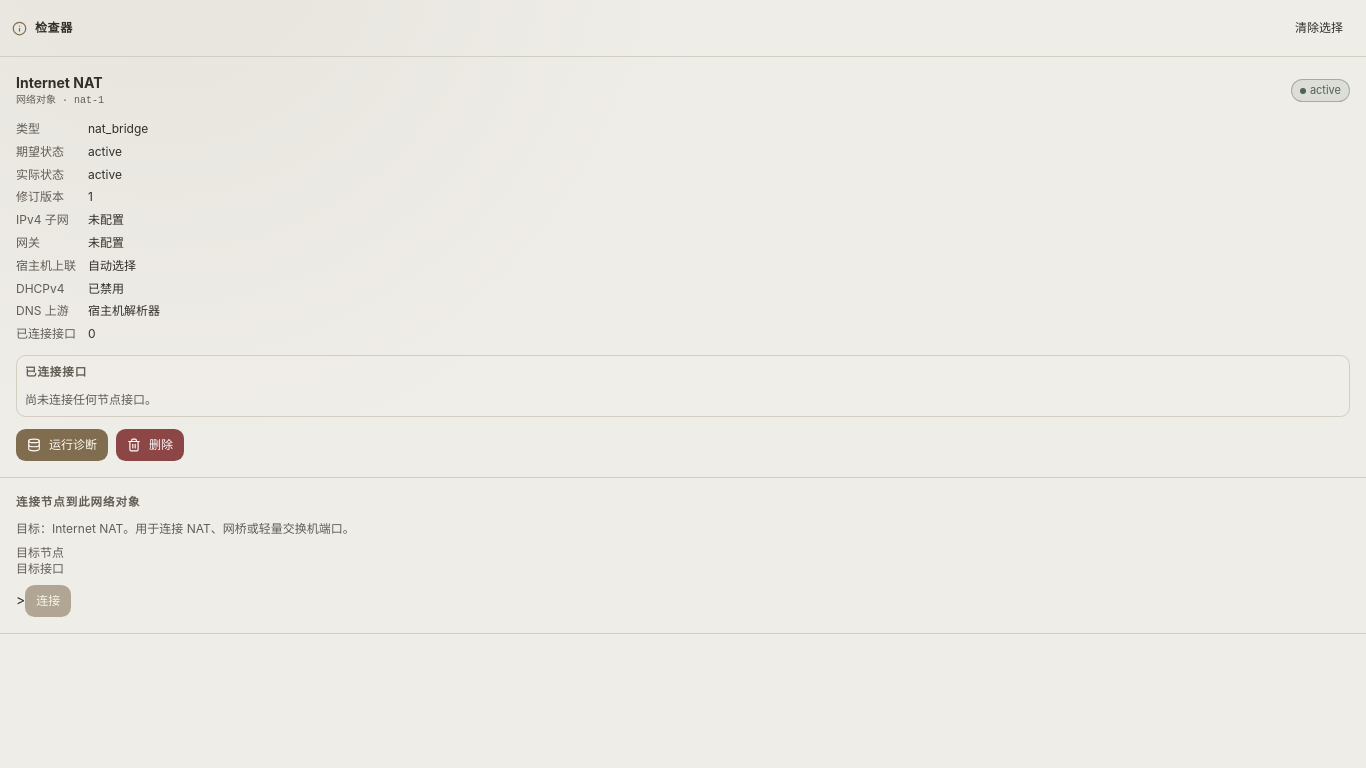
Test case: TopologyInspector › loads and collapses network diagnostics inside the Inspector
Click the button "运行诊断": (62, 445) [16,429,108,461]
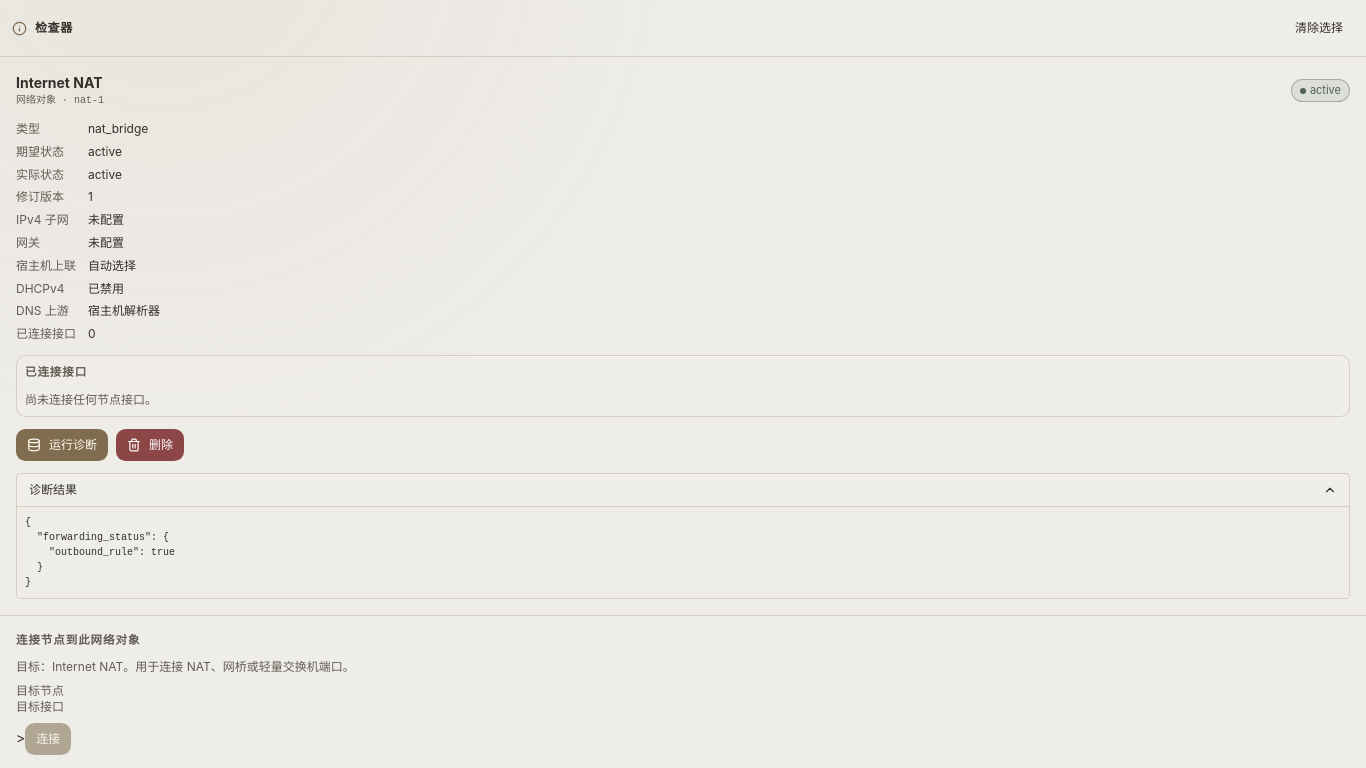
Expected: the text "outbound_rule" is shown, [25,517,175,588]
Click the button "诊断结果": (53, 489) [17,474,1349,506]
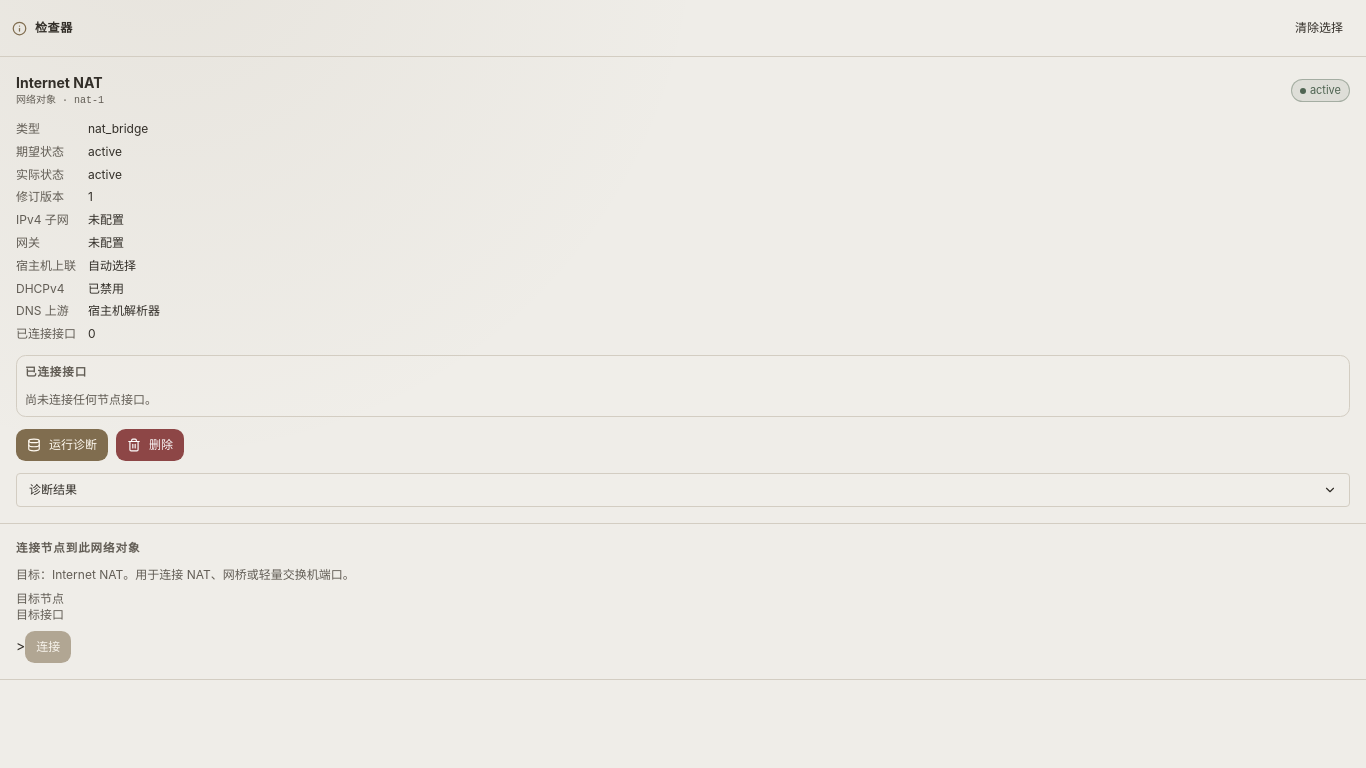
Expected: the button "诊断结果" is collapsed, [17,474,1349,506]
